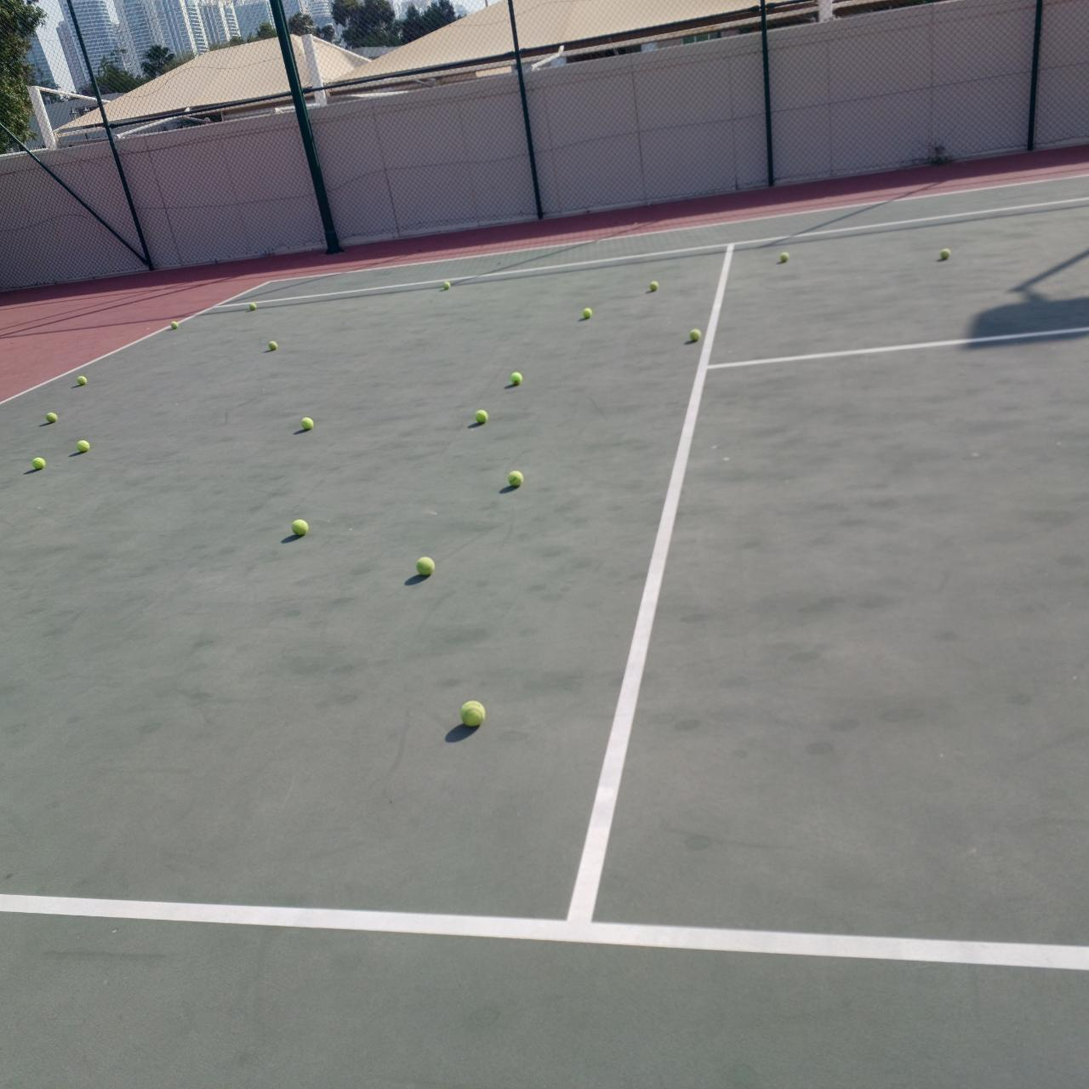tennis-ball: (459, 698, 486, 728), (414, 554, 434, 576), (290, 516, 309, 536), (506, 468, 523, 487), (75, 437, 90, 453), (31, 455, 46, 470), (299, 414, 313, 430), (687, 326, 701, 342), (473, 408, 487, 424), (509, 369, 522, 385), (46, 411, 58, 423), (779, 252, 790, 263), (939, 248, 950, 259), (76, 375, 87, 385), (268, 340, 278, 350), (649, 281, 659, 291), (583, 308, 592, 319), (170, 320, 178, 329), (443, 281, 451, 290), (249, 302, 257, 310)
